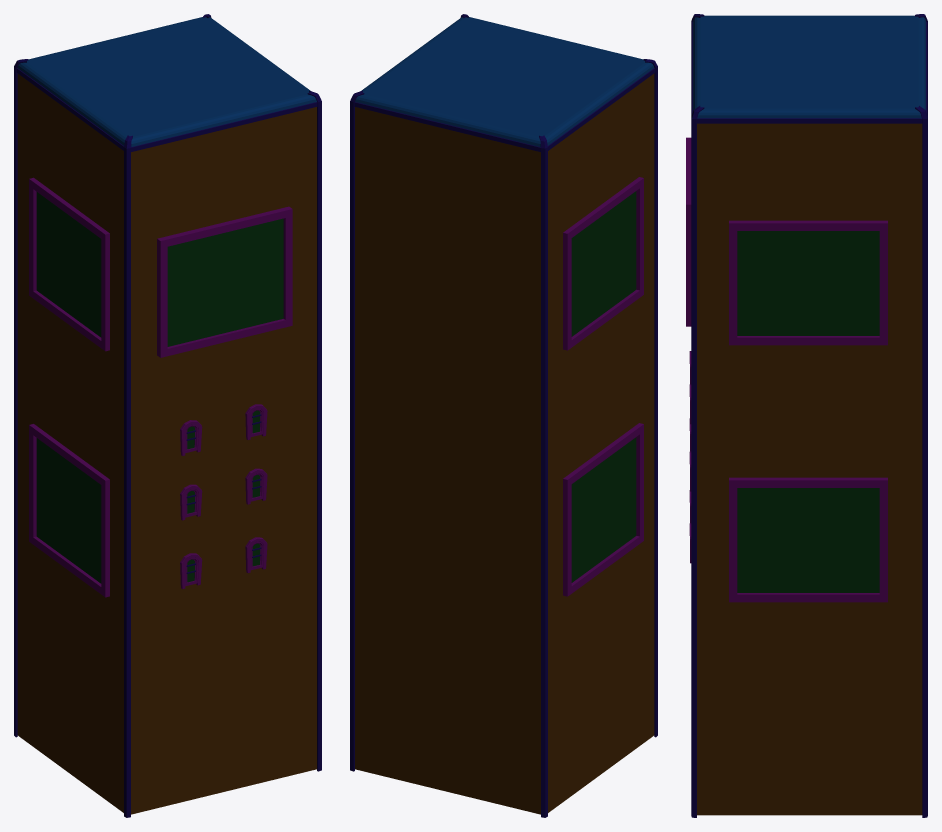
Rendered from Building_Generic_02.FBX.
3 renders of one model, left to right at view 1: azimuth 30°, elevation 25°; view 2: azimuth 150°, elevation 25°; view 3: azimuth 270°, elevation 25°, orthographic. The views are drawn at different scales.
Visible parts, largest first — view 1: Building_Generic_02; view 2: Building_Generic_02; view 3: Building_Generic_02.
Part boxes in pixels (x1,y1,x2,y2): Building_Generic_02: (14,14,321,817); Building_Generic_02: (350,14,657,817); Building_Generic_02: (686,14,927,817).
Size of the model in its own units: 1263 by 4020 by 1246.
